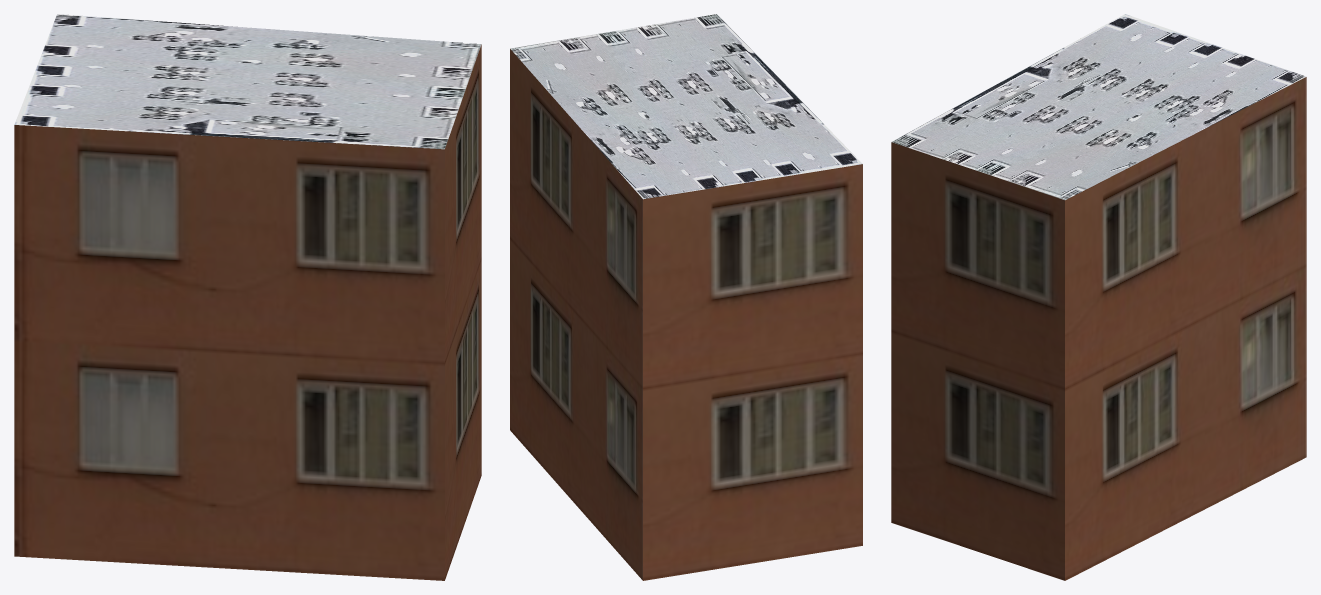
File: ResTex__3755.fbx
The picture shows the model from 3 angles, left to right: view 1: azimuth 30°, elevation 25°; view 2: azimuth 150°, elevation 25°; view 3: azimuth 270°, elevation 25°; orthographic projection. The views are drawn at different scales.
Parts seen in each view (by area): view 1: CityEngineMaterial_20_m, CityEngineMaterial_m; view 2: CityEngineMaterial_20_m, CityEngineMaterial_m; view 3: CityEngineMaterial_20_m, CityEngineMaterial_m.
Boxes of the visible parts, left/top/right/bottom form: CityEngineMaterial_20_m: left=14, top=44, right=481, bottom=580; CityEngineMaterial_m: left=14, top=14, right=481, bottom=149; CityEngineMaterial_20_m: left=510, top=49, right=862, bottom=580; CityEngineMaterial_m: left=510, top=14, right=862, bottom=199; CityEngineMaterial_20_m: left=891, top=77, right=1306, bottom=580; CityEngineMaterial_m: left=891, top=14, right=1306, bottom=200.
Size of the model in its own units: 6.3 by 6 by 5.94.
2 materials, 2 textured.
